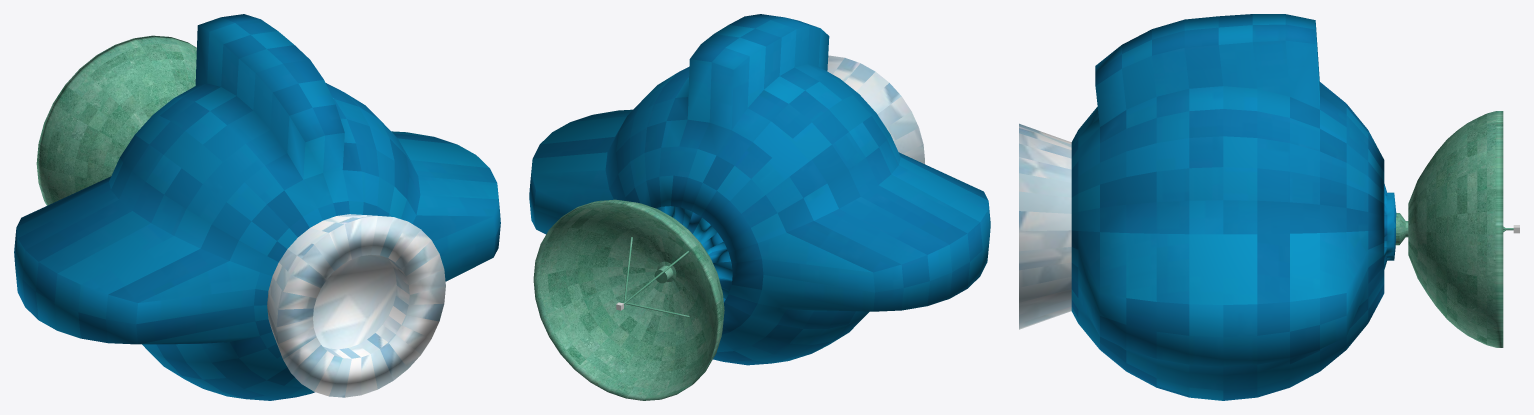
The model's file is supporter_spacebot.gltf.
3 renders of one model, left to right at view 1: azimuth 30°, elevation 25°; view 2: azimuth 150°, elevation 25°; view 3: azimuth 270°, elevation 25°, orthographic. The views are drawn at different scales.
Visible parts, largest first — view 1: Sphere, Cone, Cone.001; view 2: Sphere, Cone.001, Cone; view 3: Sphere, Cone.001, Cone.
Part boxes in pixels (x1,y1,x2,y2): Sphere: (14, 14, 500, 400); Cone: (267, 214, 445, 397); Cone.001: (36, 35, 196, 205); Sphere: (529, 14, 990, 365); Cone.001: (533, 199, 724, 400); Cone: (827, 55, 924, 163); Sphere: (1071, 14, 1396, 400); Cone.001: (1408, 111, 1503, 347); Cone: (1019, 123, 1071, 329).
Size of the model in its own units: 8.46 by 6.22 by 7.84.
9 materials, 9 textured.
